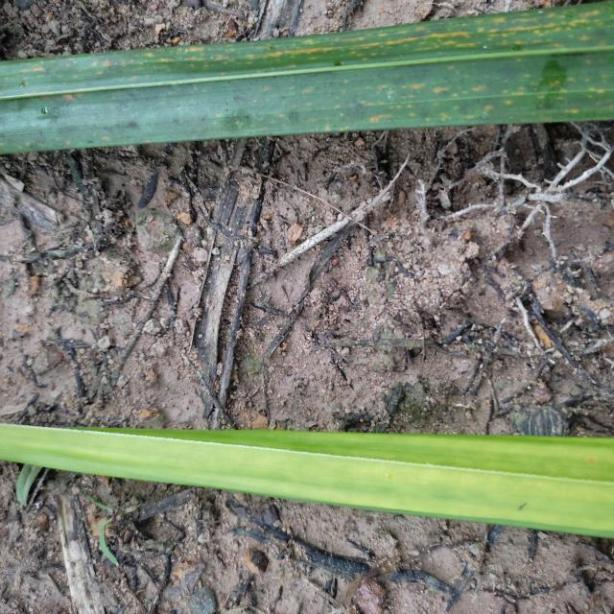nitrogen: (0, 0, 614, 157), (0, 411, 614, 542)
